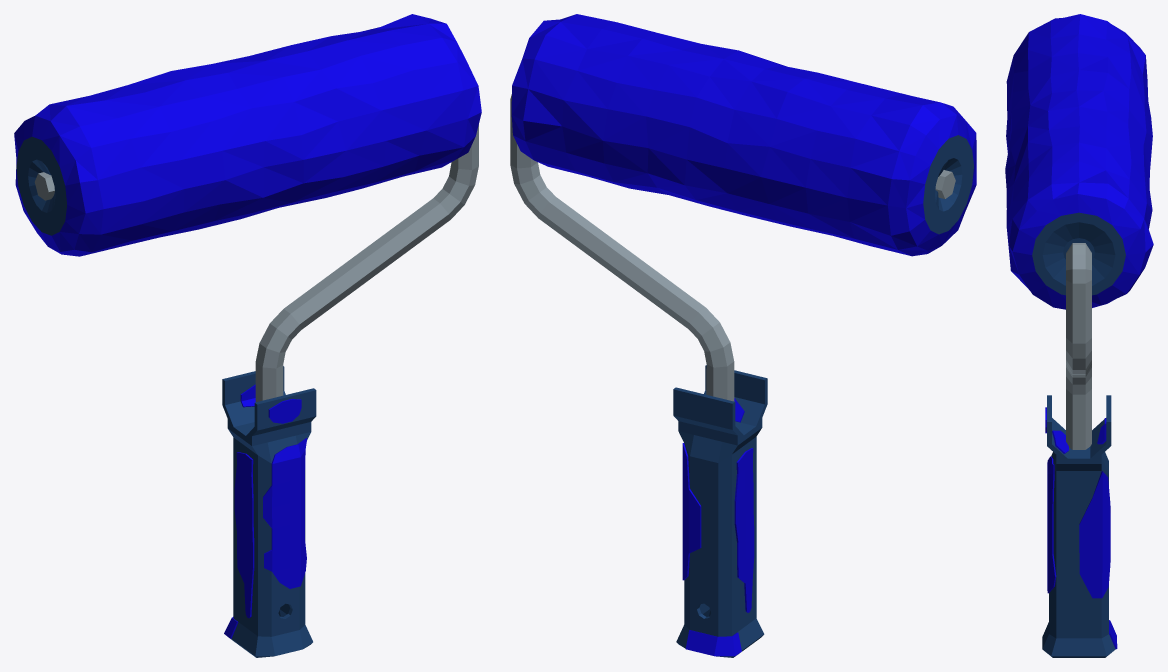
The model's file is SM_Paint_Roller_In_Paint.gltf.
The picture shows the model from 3 angles, left to right: view 1: azimuth 30°, elevation 25°; view 2: azimuth 150°, elevation 25°; view 3: azimuth 270°, elevation 25°; orthographic projection. The views are drawn at different scales.
Visible parts, largest first — view 1: SM_Paint_Roller_In_Paint; view 2: SM_Paint_Roller_In_Paint; view 3: SM_Paint_Roller_In_Paint.
Part boxes in pixels (x1,y1,x2,y2): SM_Paint_Roller_In_Paint: [14, 14, 481, 657]; SM_Paint_Roller_In_Paint: [510, 14, 976, 657]; SM_Paint_Roller_In_Paint: [1005, 14, 1153, 657].
Bounding box in the file's own units: 0.3208 × 0.4128 × 0.1029.
